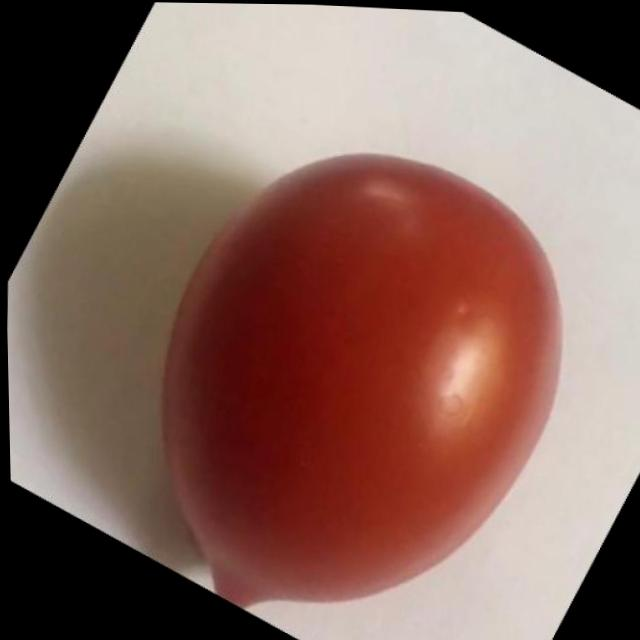tomato: (147, 145, 574, 624)
